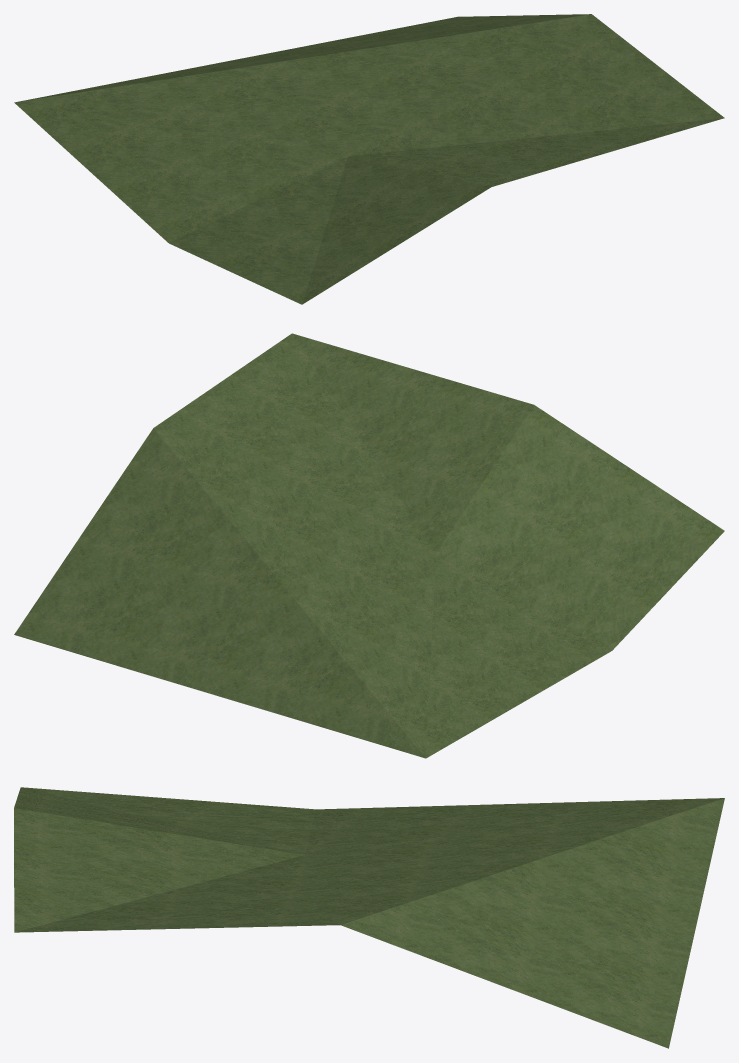
File: LODa_carisle_mid_landmass_02_03.fbx
The picture shows the model from 3 angles, top to bottom: view 1: azimuth 30°, elevation 25°; view 2: azimuth 150°, elevation 25°; view 3: azimuth 270°, elevation 25°; orthographic projection. The views are drawn at different scales.
Visible parts, largest first — view 1: LODa_carisle_mid_landmass_02_03; view 2: LODa_carisle_mid_landmass_02_03; view 3: LODa_carisle_mid_landmass_02_03.
Part boxes in pixels (x1,y1,x2,y2): LODa_carisle_mid_landmass_02_03: (14,14,724,304); LODa_carisle_mid_landmass_02_03: (14,333,724,758); LODa_carisle_mid_landmass_02_03: (14,787,724,1048).
Bounding box in the file's own units: 21.02 × 24.47 × 5.4.
Materials: 1 (1 with a texture image).
